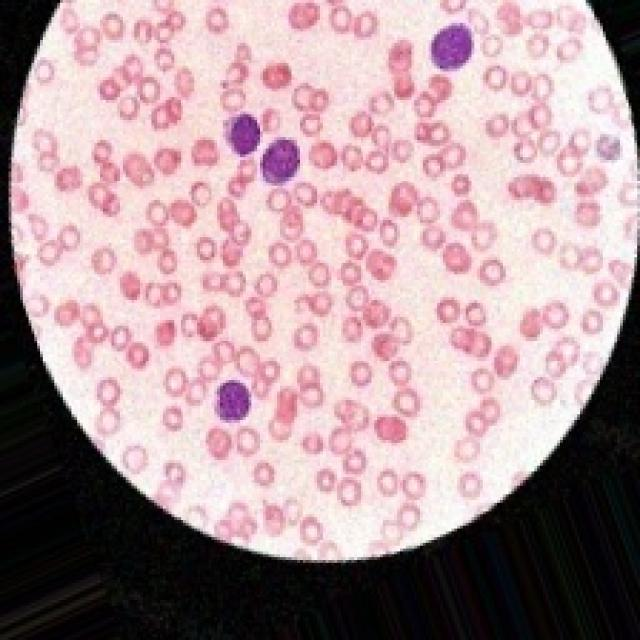Spherical_bacteria: (6, 0, 637, 563)
